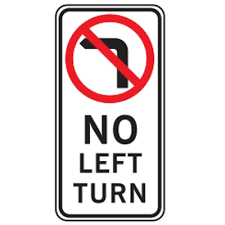No_left_turn: (65, 14, 154, 103)
